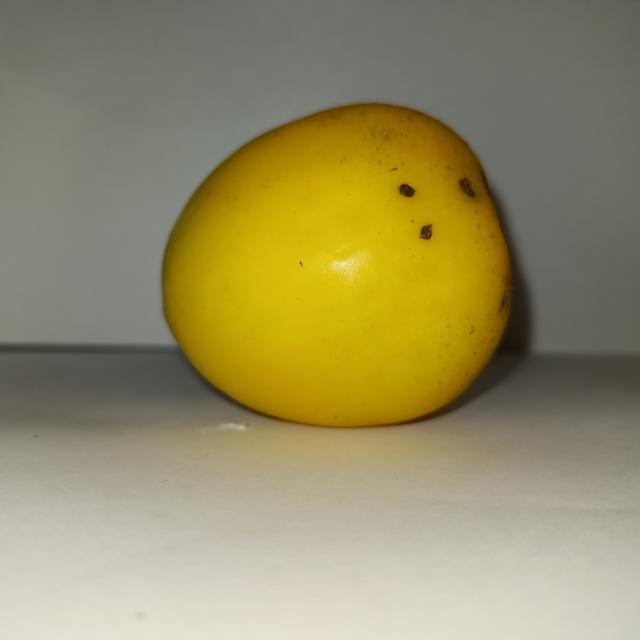Red: (160, 100, 514, 429)
